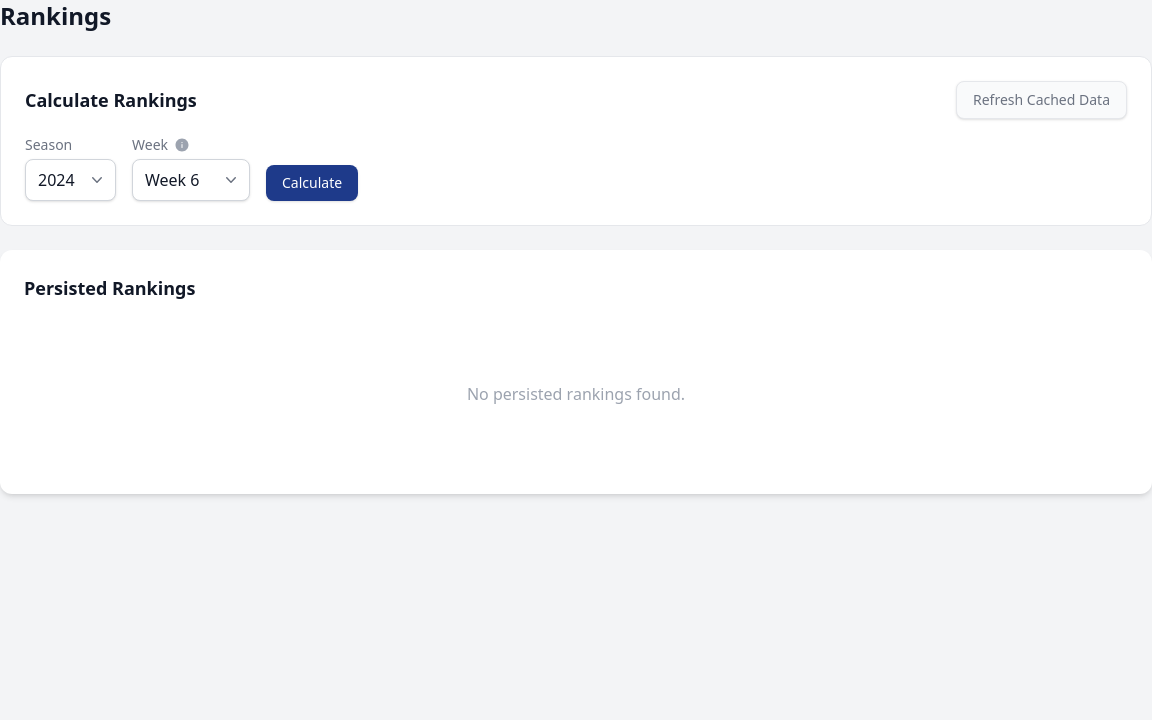
Test case: RankingsSnapshotsPage › shows error feedback when confirmed refresh fails
This screenshot has width=1152, height=720.
Click the button "Refresh Cached Data".
click(1042, 100)  # box 956,81 -> 1127,119
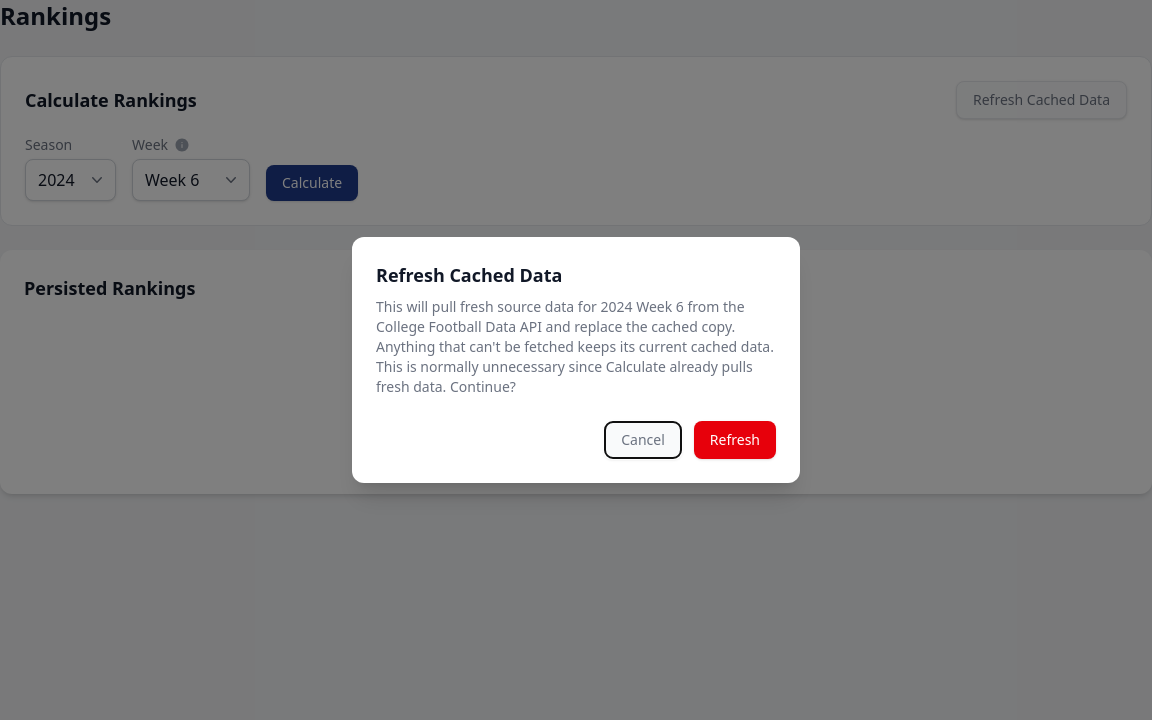
Click the button "Refresh".
click(735, 440)  # box 694,421 -> 776,459
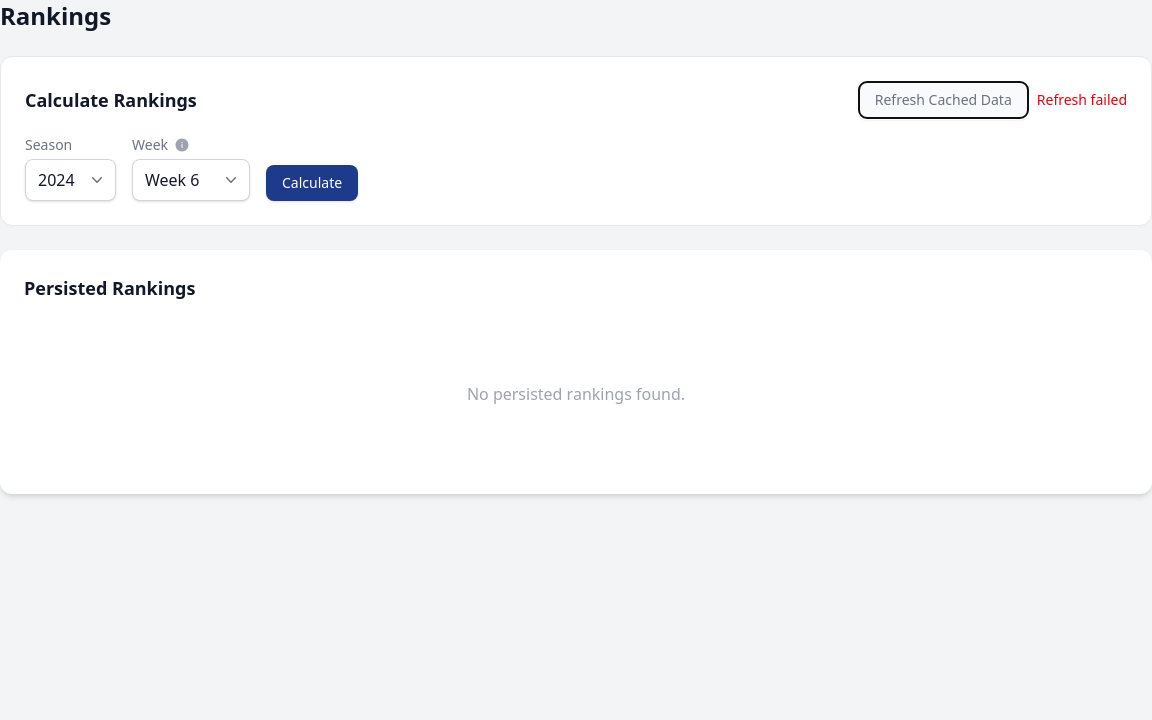
Result: the text "Refresh failed" is shown at 1037,90 -> 1127,110
